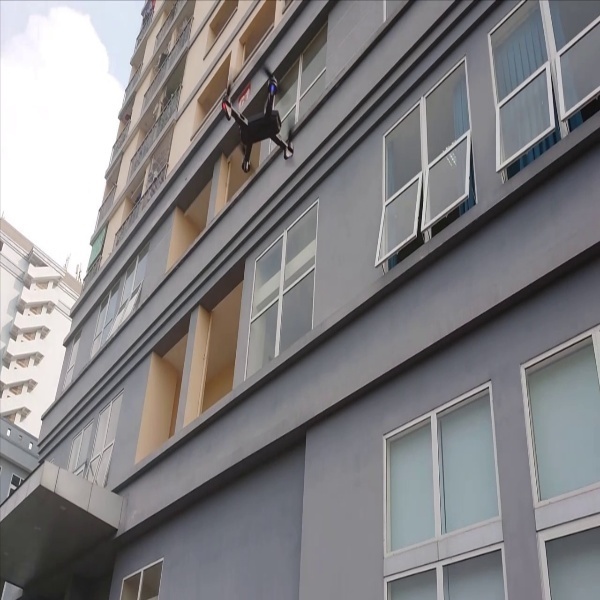drone: (213, 52, 310, 180)
